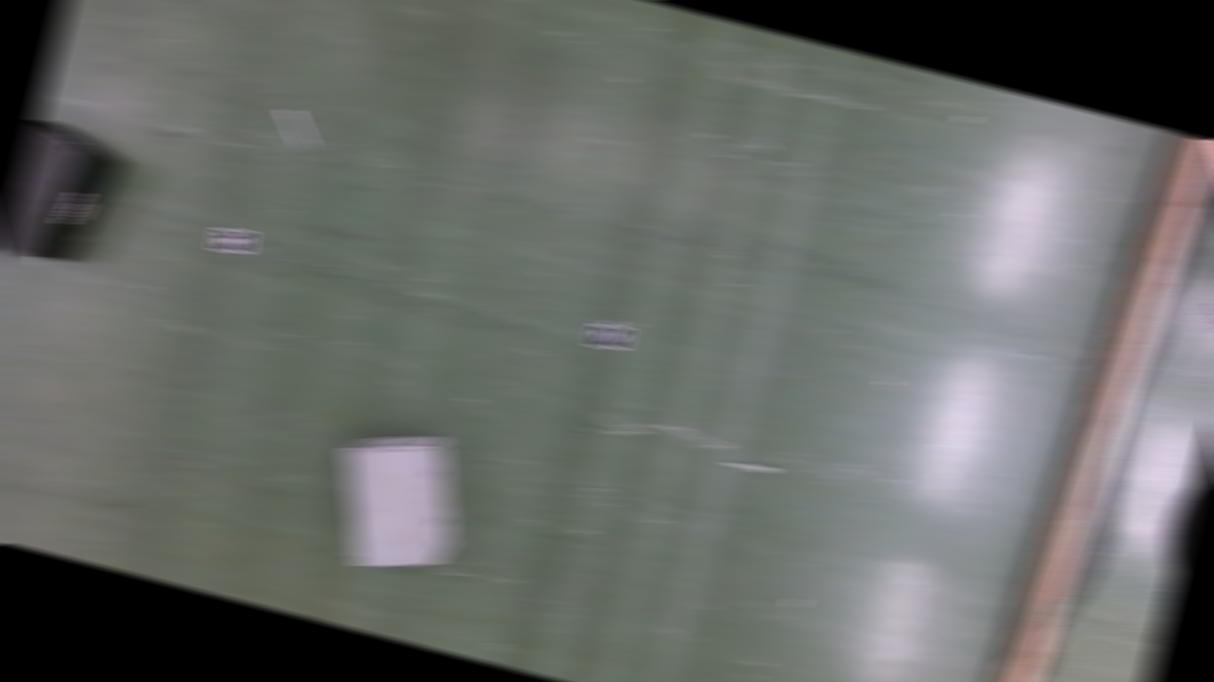probes: (272, 106, 320, 148), (725, 459, 774, 475)
rako: (318, 414, 483, 588), (0, 115, 134, 274)
